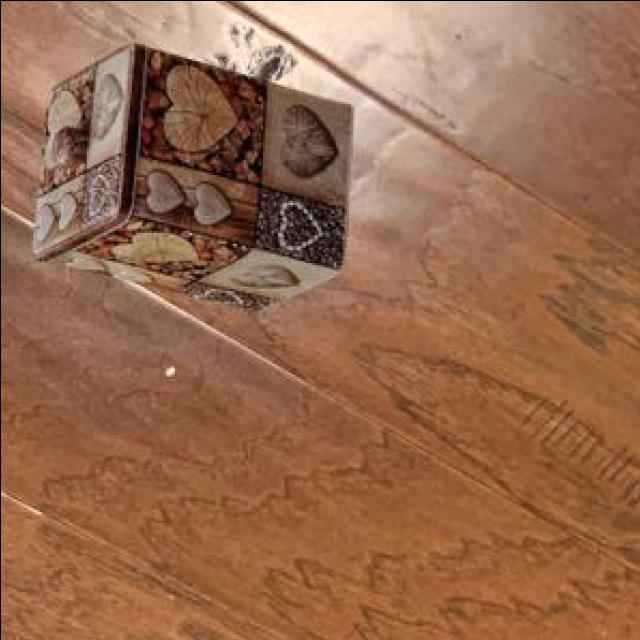logam: (35, 46, 355, 312)
